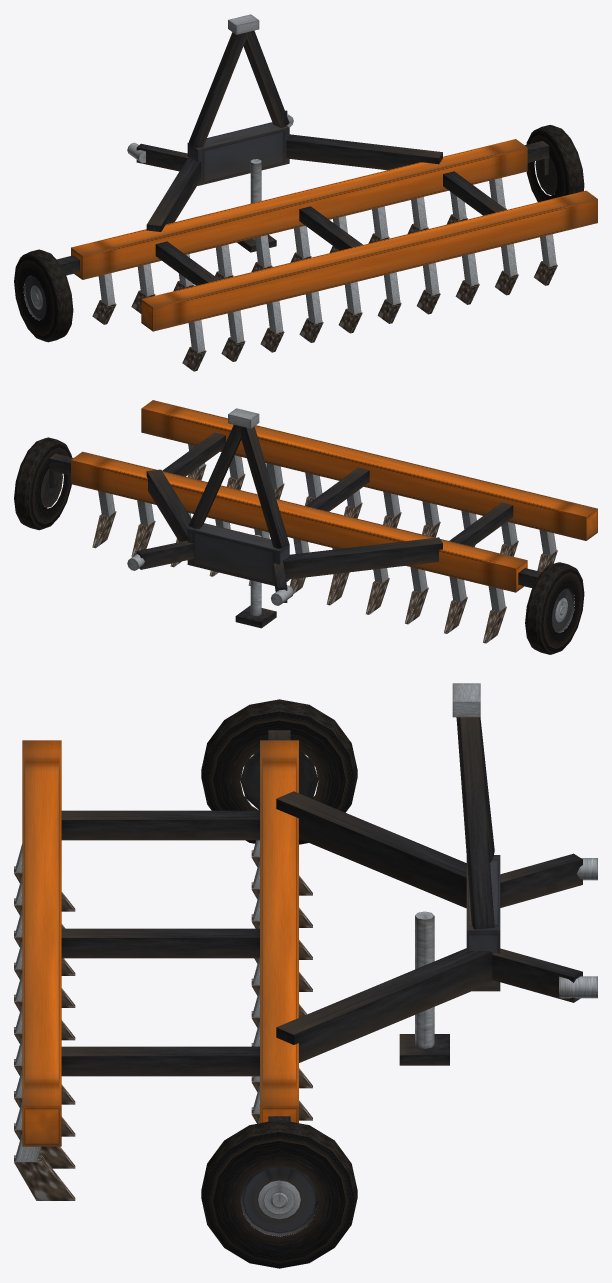
Rendered from Cultivator.glb.
3 renders of one model, top to bottom at view 1: azimuth 30°, elevation 25°; view 2: azimuth 150°, elevation 25°; view 3: azimuth 270°, elevation 25°, orthographic. The views are drawn at different scales.
Visible parts, largest first — view 1: Frame, Tines, DepthWheel_L, DepthWheel_R, ParkingLeg; view 2: Frame, Tines, DepthWheel_L, DepthWheel_R, ParkingLeg; view 3: Frame, DepthWheel_R, DepthWheel_L, Tines, ParkingLeg.
Part boxes in pixels (box(x1,y1,x2,y2)): Frame: box(56, 14, 597, 331); Tines: box(92, 178, 557, 371); DepthWheel_L: box(14, 249, 73, 342); DepthWheel_R: box(526, 125, 584, 202); ParkingLeg: box(237, 159, 276, 252); Frame: box(49, 400, 597, 605); Tines: box(92, 444, 557, 643); DepthWheel_L: box(525, 562, 584, 654); DepthWheel_R: box(14, 437, 71, 530); ParkingLeg: box(235, 535, 276, 628); Frame: box(22, 683, 597, 1146); DepthWheel_R: box(201, 1119, 357, 1268); DepthWheel_L: box(201, 699, 357, 844); Tines: box(14, 840, 312, 1200); ParkingLeg: box(399, 911, 449, 1065).
Bounding box in the file's own units: 3.68 × 1.43 × 2.09.
1 material, 1 textured.
